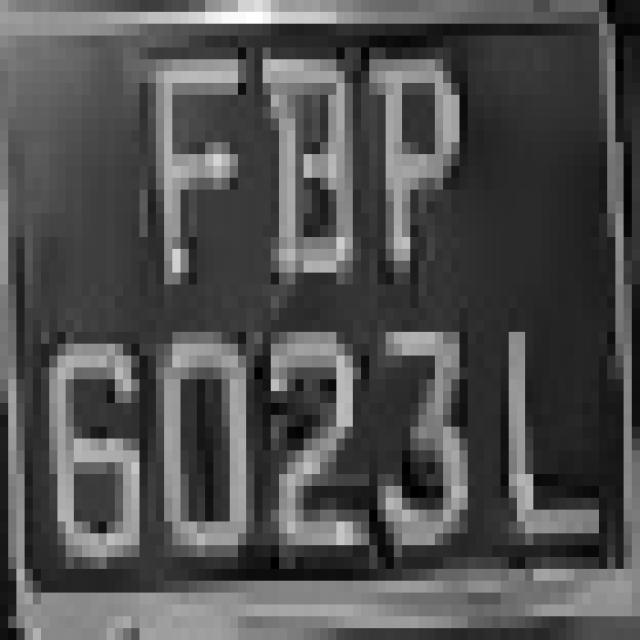0: (123, 272, 279, 604)
2: (254, 284, 370, 581)
3: (361, 284, 484, 581)
6: (33, 284, 148, 581)
B: (230, 12, 369, 308)
F: (115, 36, 254, 272)
L: (459, 296, 599, 581)
P: (361, 36, 484, 284)
